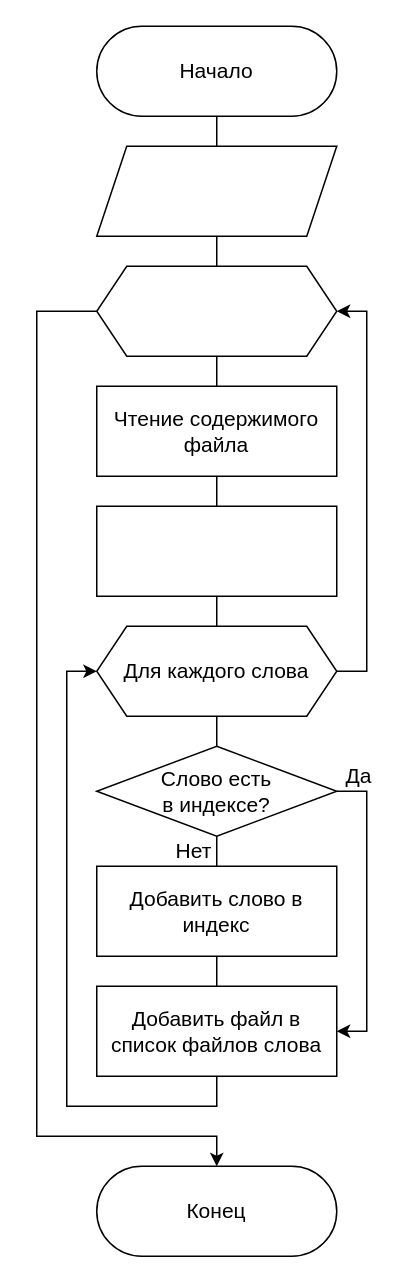
The diagram is 408 pixels wide and 1283 high, and some of its shapes have lost their labels. Each missing label, with the centre of its shape:
"Выделение слов из текста" goes at (x=216, y=550).
"Для каждого файла" goes at (x=216, y=310).
"Получение списка файлов" goes at (x=216, y=190).
